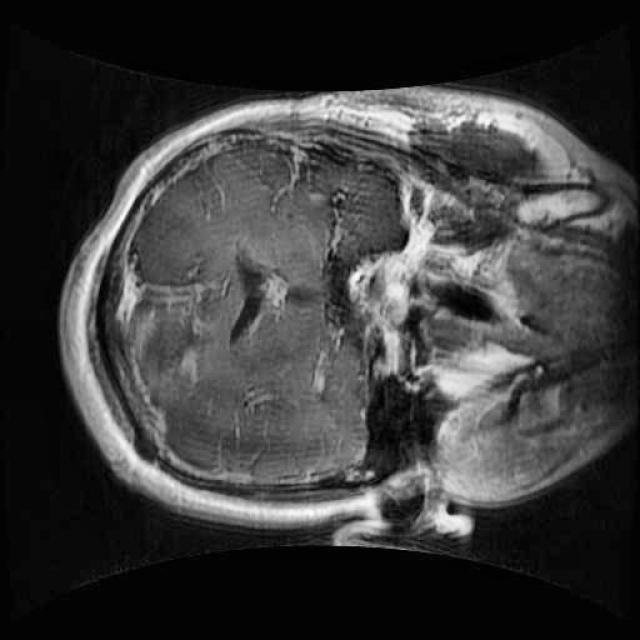Non-Tumor: (125, 282, 233, 424)
